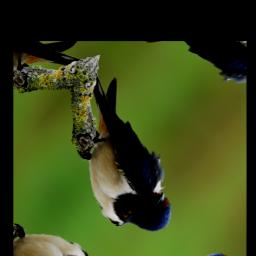Swallow: (32, 65, 215, 255)
